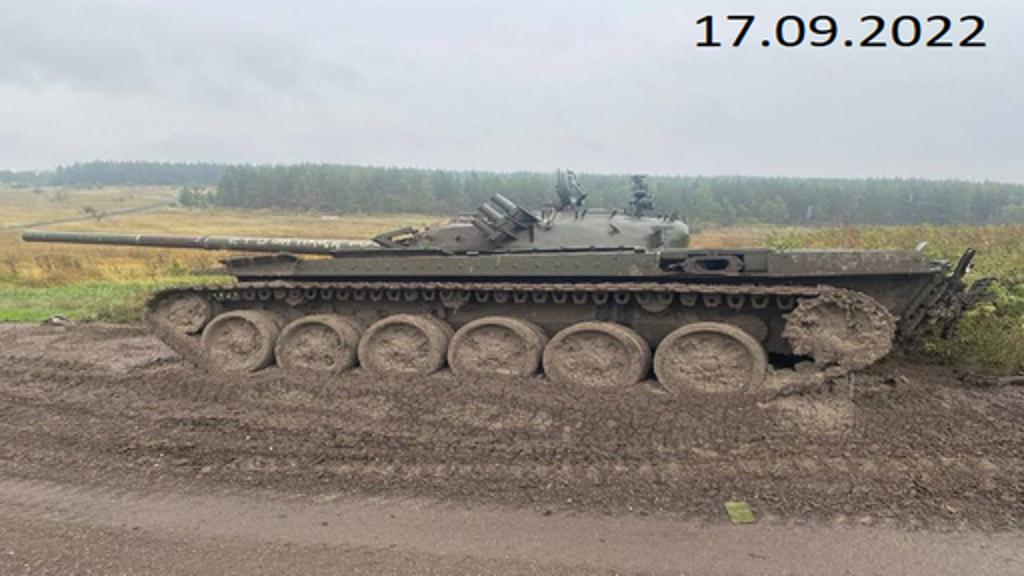TANK: (10, 178, 990, 420)
